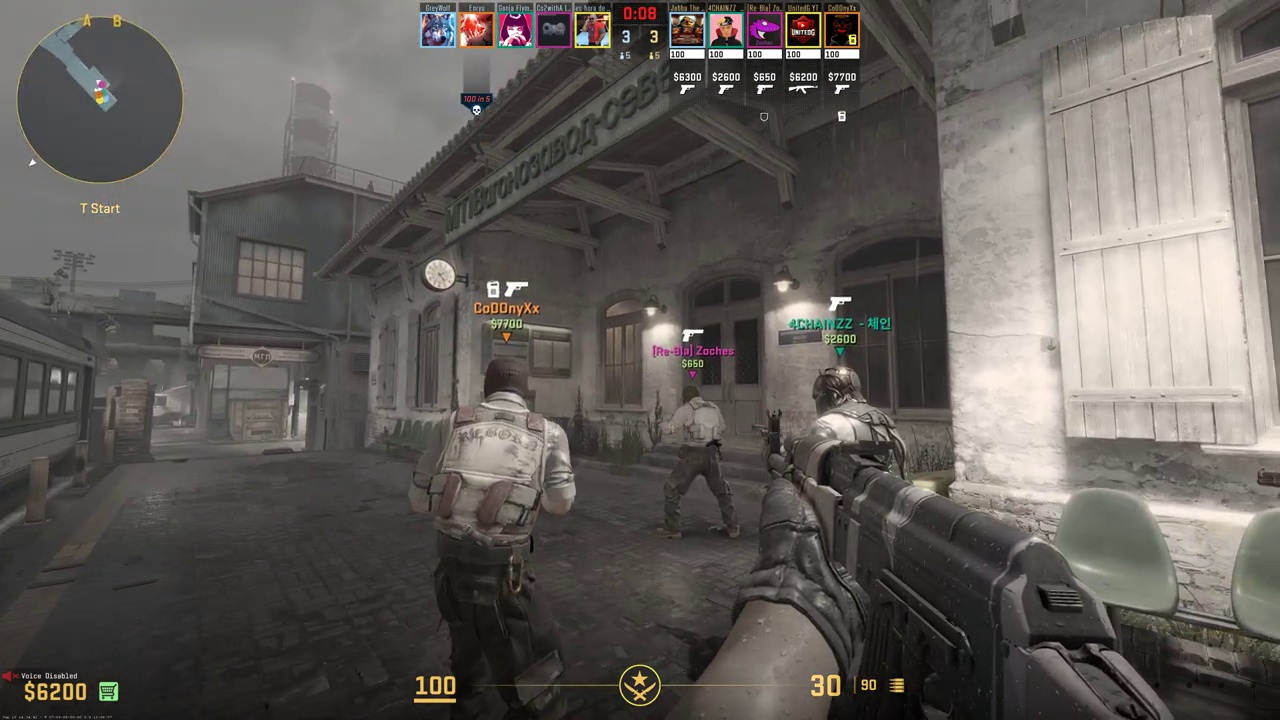Terrorist: (426, 361, 566, 719), (658, 384, 739, 539), (803, 365, 897, 481)
